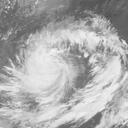cyclone: (20, 42, 72, 102)
